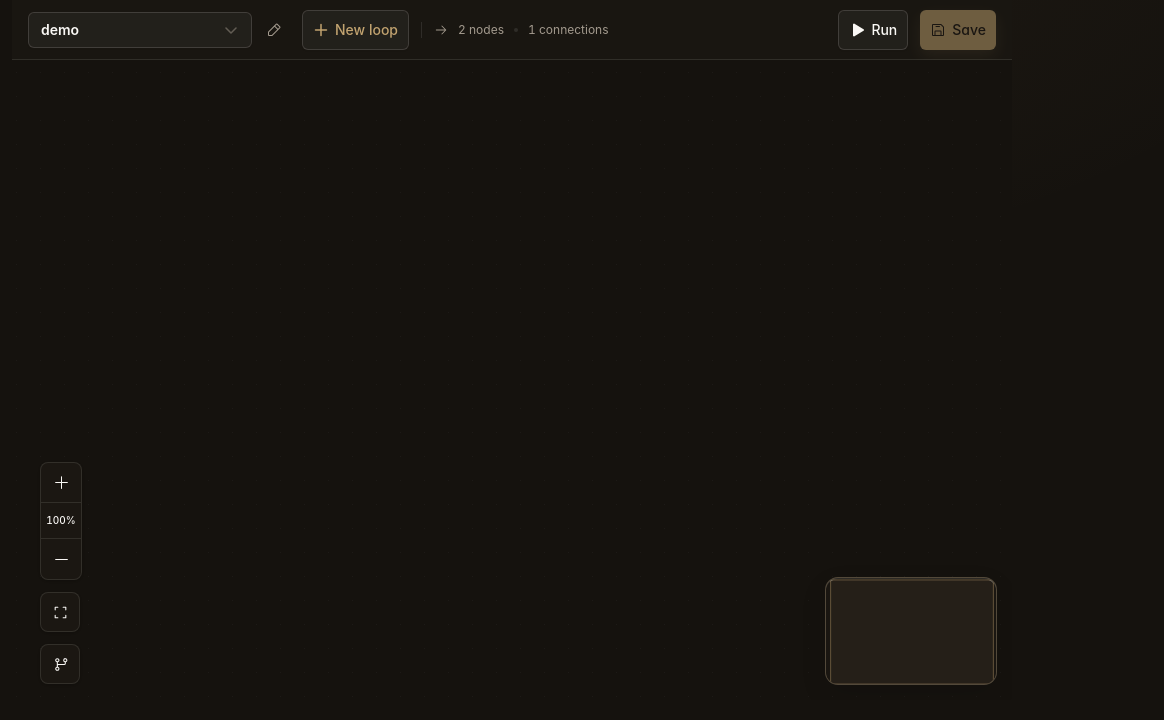
Test case: NodeGraphEditor canvas menu › imports a macro snapshot into a standalone node
This screenshot has width=1164, height=720.
Right-click the element with class "react-flow__pane" at [512, 380], box [12,60,1012,700]
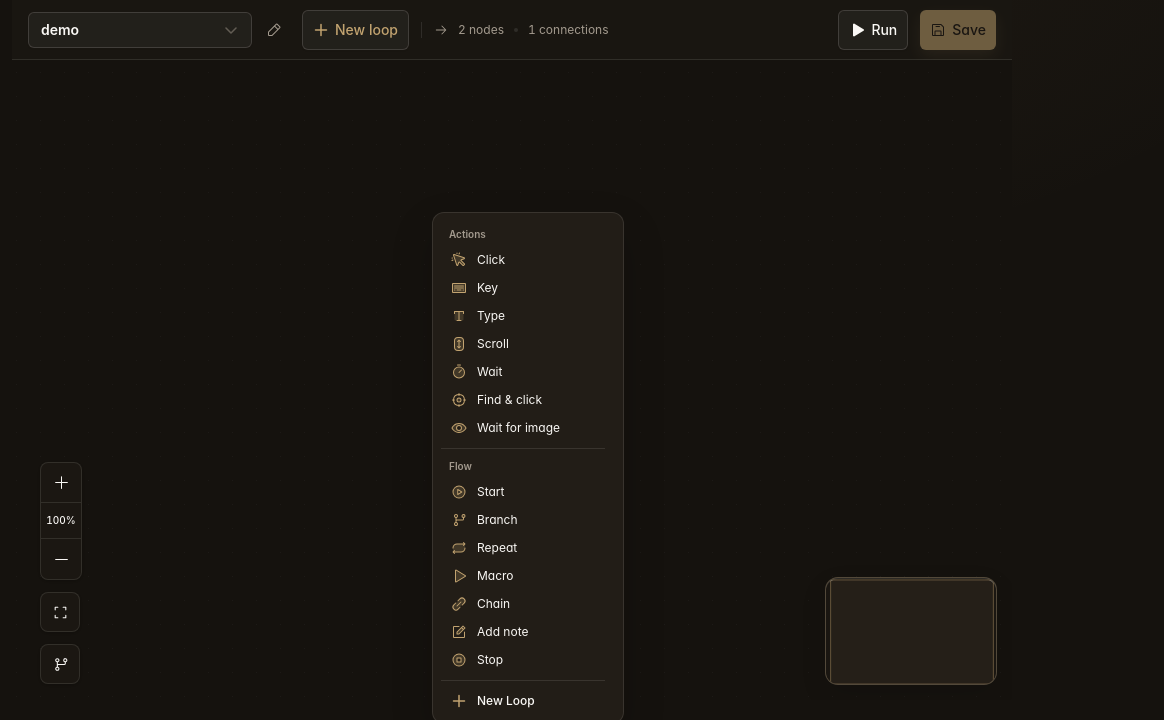
Click the menu item "Macro" at [523, 576], box [441,562,605,590]
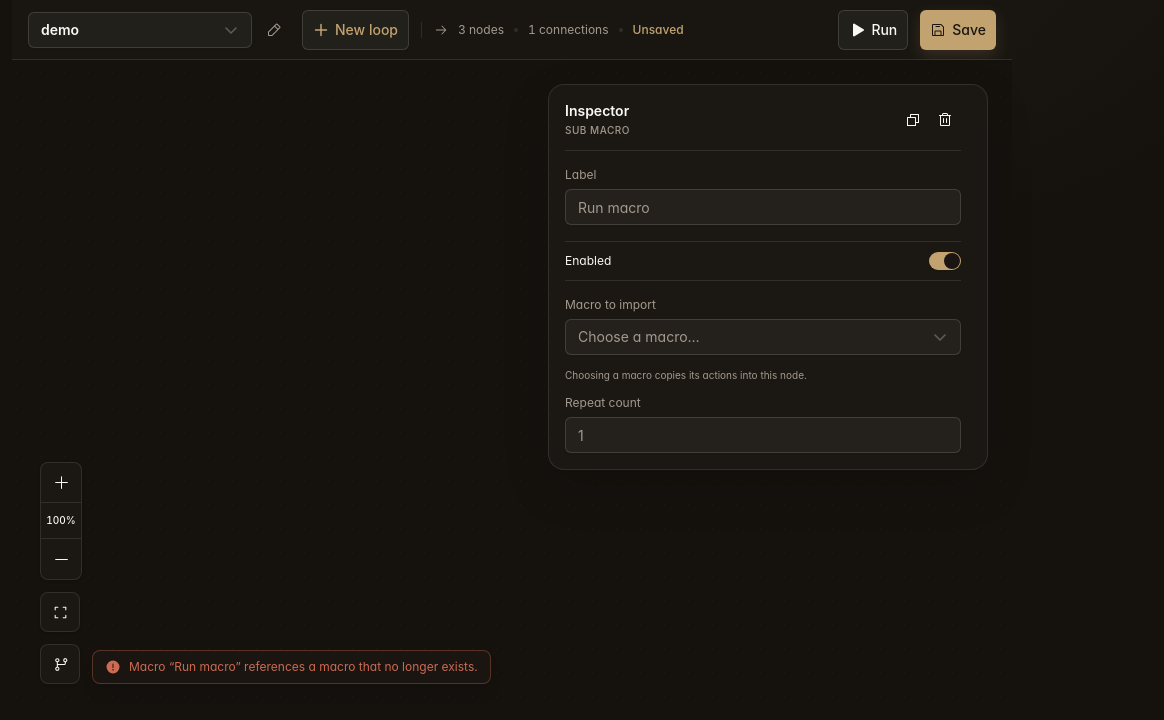
Click the dropdown named "Macro to import" at [639, 337], box [565,319,961,355]
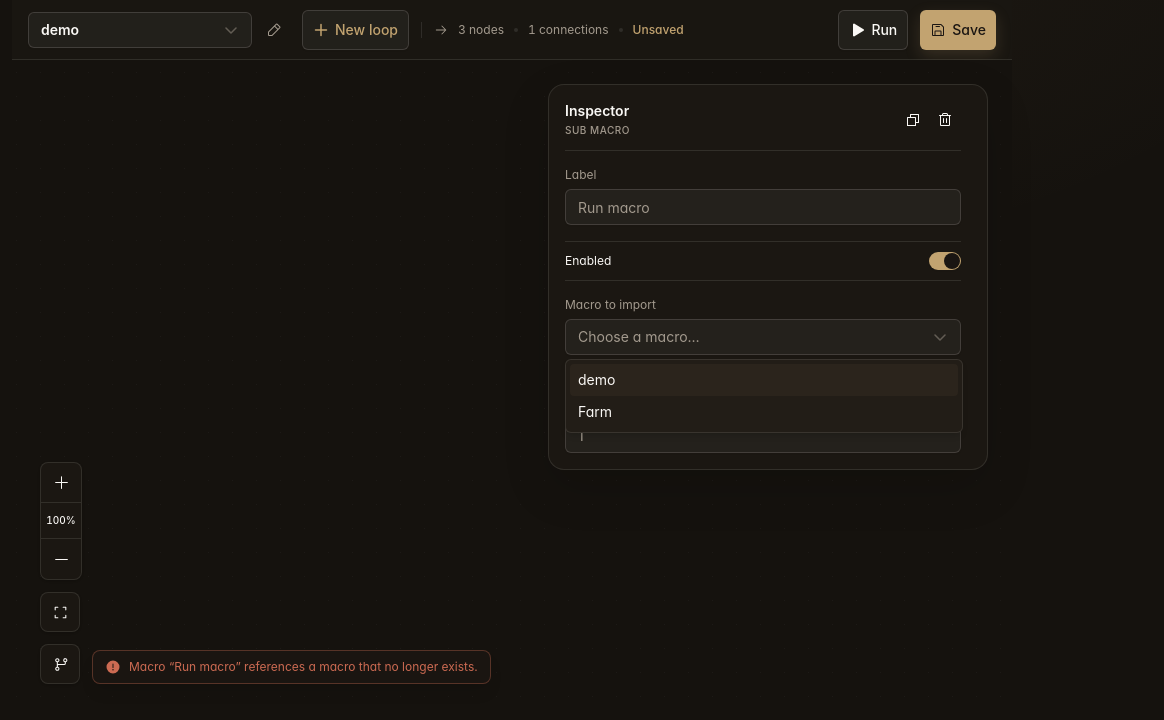
Click the option "Farm" at [595, 412], box [578,403,612,420]
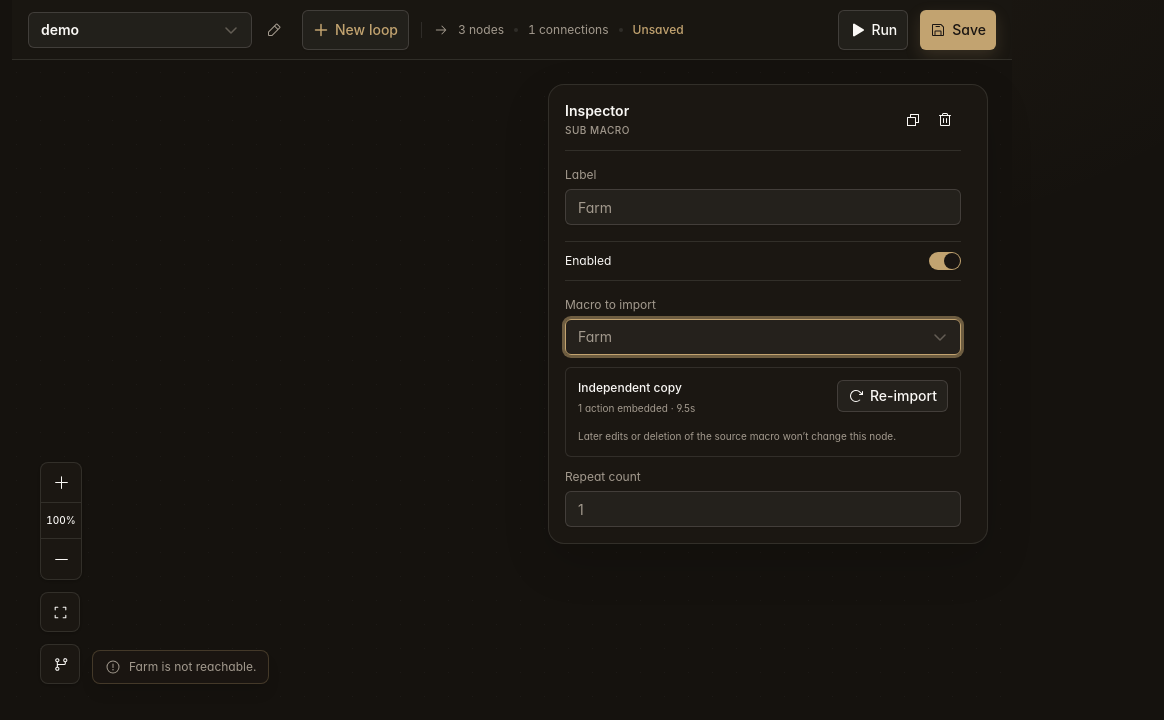
expect the text "1 action embedded · 9.5s" is shown: met, box [578,400,695,416]
expect the text "Independent copy" is shown: met, box [578,380,695,396]
expect the button with aria-label "Re-import latest" is shown: met, box [837,380,948,412]
